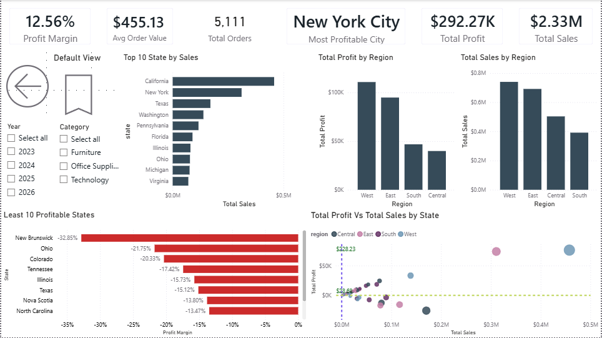

This screenshot's page, from the dashboard's own definition file:
{"tool":"powerbi","page":{"name":"Regional Analysis","canvas":[1280,720],"ordinal":3},"visuals":[{"type":"cardVisual","title":"Total Sales","fields":{"Data":["superstore_cleaned.Total Sales"]},"box":[1088,0,192,112],"z":0},{"type":"cardVisual","title":"Net Profit","fields":{"Data":["calendar.Net Profit"]},"box":[880,0,208,112],"z":1000},{"type":"cardVisual","fields":{"Data":["superstore_cleaned.Profit Margin"]},"box":[0,0,208,112],"z":2000},{"type":"cardVisual","fields":{"Data":["superstore_cleaned.Average Order Value"]},"box":[208,0,176,112],"z":3000},{"type":"clusteredColumnChart","title":"Total Sales by Region","fields":{"Category":["superstore_cleaned.region"],"Y":["superstore_cleaned.Total Sales"]},"box":[976,112,304,336],"z":4000},{"type":"clusteredColumnChart","title":"Total Profit by Region","fields":{"Y":["superstore_cleaned.Total Profit"],"Category":["superstore_cleaned.region"]},"box":[672,112,304,336],"z":5000},{"type":"barChart","title":"Top 10 State by Sales","fields":{"Category":["superstore_cleaned.state"],"Y":["superstore_cleaned.Total Sales"]},"box":[256,112,416,336],"z":6000},{"type":"scatterChart","title":"Total Profit Vs Total Sales by State ","fields":{"Category":["superstore_cleaned.state"],"X":["superstore_cleaned.Total Sales"],"Y":["superstore_cleaned.Total Profit"],"Size":["superstore_cleaned.Order Count"],"Series":["superstore_cleaned.region"]},"box":[656,448,624,272],"z":7000},{"type":"barChart","title":"Least 10 Profitable States","fields":{"Category":["superstore_cleaned.state"],"Y":["superstore_cleaned.Profit Margin"]},"box":[0,448,656,272],"z":8000},{"type":"slicer","fields":{"Values":["superstore_cleaned.year"]},"box":[0,256,112,192],"z":9000},{"type":"cardVisual","fields":{"Data":["Min(superstore_cleaned.city)"]},"box":[592,0,288,112],"z":10000},{"type":"slicer","fields":{"Values":["superstore_cleaned.category"]},"box":[112,256,144,192],"z":12000},{"type":"card","fields":{"Values":["superstore_cleaned.Order Count"]},"box":[384,0,208,112],"z":13000},{"type":"actionButton","title":"Default View","box":[112,112,144,144],"z":13001},{"type":"actionButton","box":[0,112,112,144],"z":13002}]}

Visuals, with their boxes in screenshot pixels (x1, y1, x2, y2), scaled from the page's 1280x720 canvas onto the 602x338 screenshot:
"Total Sales" cardVisual: [x1=512, y1=0, x2=601, y2=53]
"Net Profit" cardVisual: [x1=414, y1=0, x2=512, y2=53]
cardVisual - superstore_cleaned.Profit Margin: [x1=0, y1=0, x2=98, y2=53]
cardVisual - superstore_cleaned.Average Order Value: [x1=98, y1=0, x2=181, y2=53]
"Total Sales by Region" clusteredColumnChart: [x1=459, y1=53, x2=601, y2=210]
"Total Profit by Region" clusteredColumnChart: [x1=316, y1=53, x2=459, y2=210]
"Top 10 State by Sales" barChart: [x1=120, y1=53, x2=316, y2=210]
"Total Profit Vs Total Sales by State " scatterChart: [x1=309, y1=210, x2=601, y2=337]
"Least 10 Profitable States" barChart: [x1=0, y1=210, x2=309, y2=337]
slicer - superstore_cleaned.year: [x1=0, y1=120, x2=53, y2=210]
cardVisual - Min(superstore_cleaned.city): [x1=278, y1=0, x2=414, y2=53]
slicer - superstore_cleaned.category: [x1=53, y1=120, x2=120, y2=210]
card - superstore_cleaned.Order Count: [x1=181, y1=0, x2=278, y2=53]
"Default View" actionButton: [x1=53, y1=53, x2=120, y2=120]
actionButton: [x1=0, y1=53, x2=53, y2=120]
